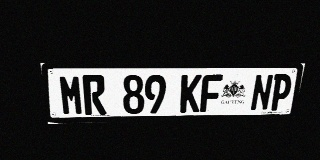8: (123, 75, 144, 114)
9: (145, 75, 166, 114)
F: (200, 74, 223, 112)
K: (180, 74, 202, 113)
M: (58, 75, 84, 115)
N: (250, 74, 274, 111)
P: (268, 74, 293, 111)
R: (82, 75, 106, 115)
